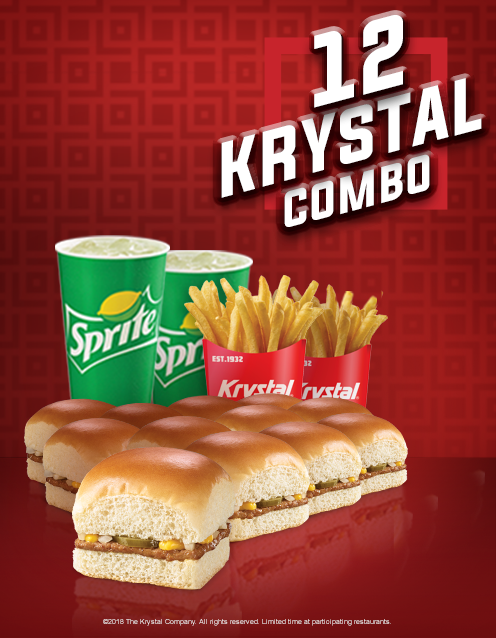sprite: (66, 303, 153, 359), (154, 338, 202, 371)
